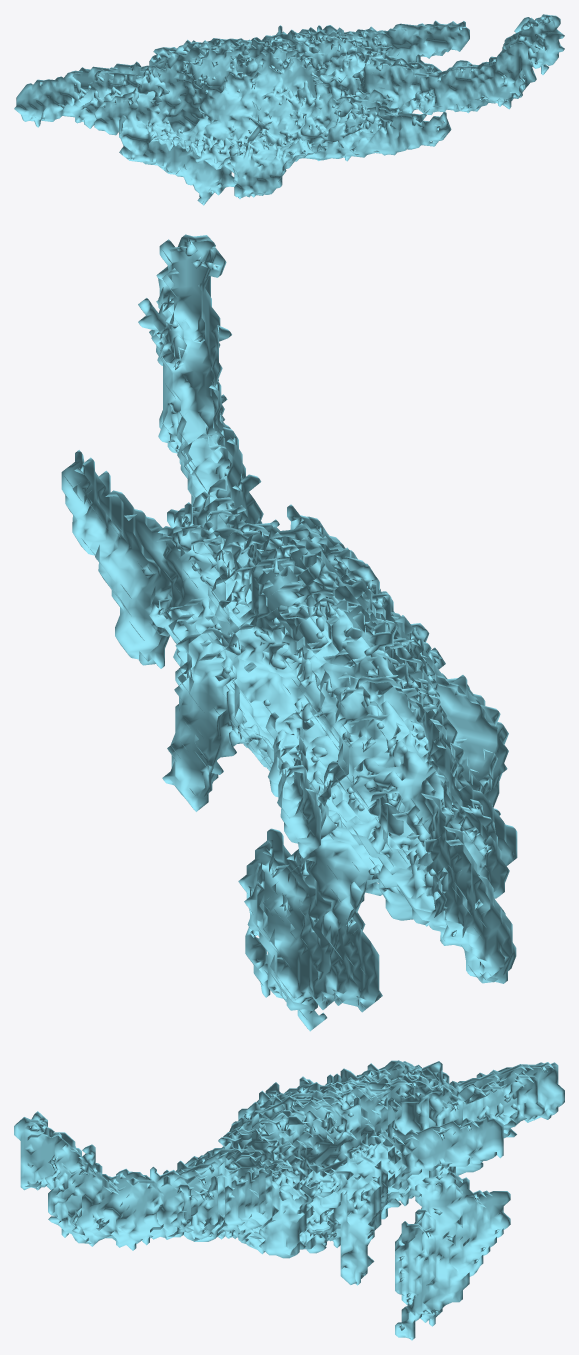
File: osteocyte_99.glb
3 views of the same model, one above another, from view 1: azimuth 30°, elevation 25°; view 2: azimuth 150°, elevation 25°; view 3: azimuth 270°, elevation 25° (orthographic). The views are drawn at different scales.
Parts seen in each view (by area): view 1: osteocyte_99; view 2: osteocyte_99; view 3: osteocyte_99.
Part boxes in pixels (x1=…): osteocyte_99: x1=14, y1=14, x2=564, y2=205; osteocyte_99: x1=61, y1=234, x2=517, y2=1031; osteocyte_99: x1=14, y1=1060, x2=564, y2=1340.
Bounding box in the file's own units: 41.89 × 26.96 × 39.
